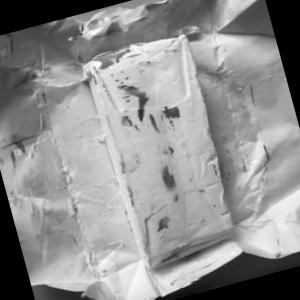butter: (70, 16, 241, 272)
